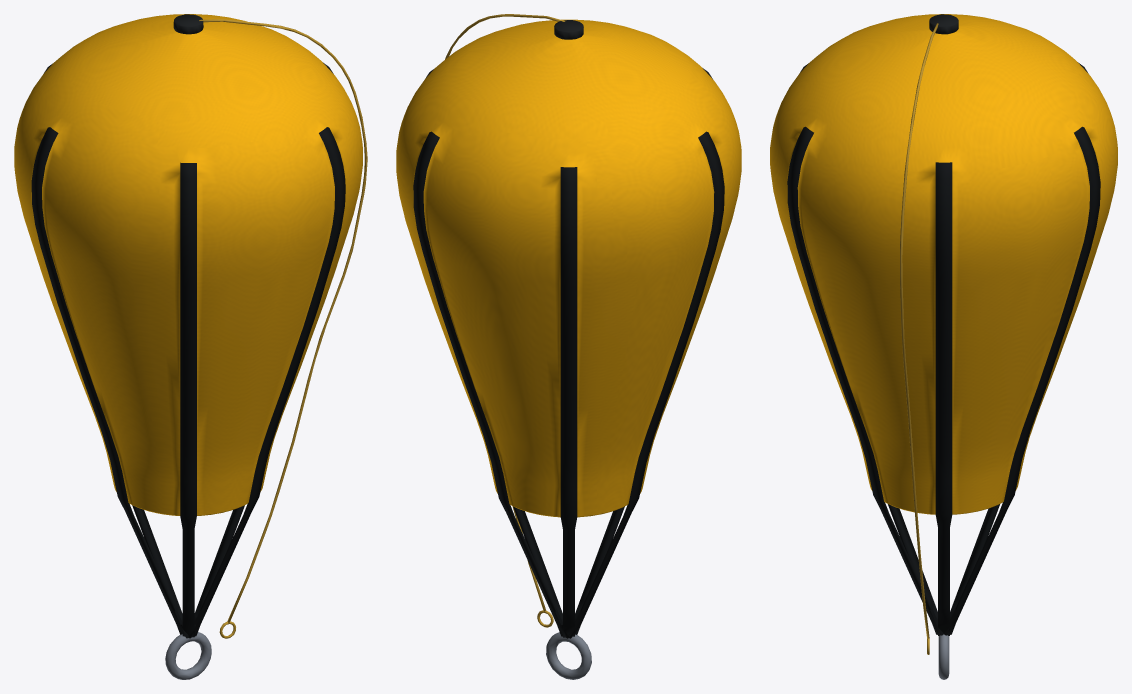
The model's file is NEW691_LiftBag_LOD2.glb.
3 renders of one model, left to right at view 1: azimuth 30°, elevation 25°; view 2: azimuth 150°, elevation 25°; view 3: azimuth 270°, elevation 25°, orthographic.
Visible parts, largest first — view 1: Open_bottom_cloth_with_six_harness_legs, External_dump_pull_line, Single_vertical_metal_load_ring, External_top_dump_valve; view 2: Open_bottom_cloth_with_six_harness_legs, Single_vertical_metal_load_ring, External_dump_pull_line, External_top_dump_valve; view 3: Open_bottom_cloth_with_six_harness_legs, External_dump_pull_line.
Part boxes in pixels (left/top/right/bottom): Open_bottom_cloth_with_six_harness_legs: left=14, top=14, right=362, bottom=638; External_dump_pull_line: left=199, top=19, right=367, bottom=624; Single_vertical_metal_load_ring: left=165, top=632, right=211, bottom=679; External_top_dump_valve: left=173, top=14, right=203, bottom=34; Open_bottom_cloth_with_six_harness_legs: left=396, top=19, right=741, bottom=638; Single_vertical_metal_load_ring: left=546, top=632, right=591, bottom=679; External_dump_pull_line: left=445, top=14, right=565, bottom=612; External_top_dump_valve: left=554, top=20, right=583, bottom=39; Open_bottom_cloth_with_six_harness_legs: left=770, top=14, right=1117, bottom=635; External_dump_pull_line: left=900, top=23, right=938, bottom=638.
Bounding box in the file's own units: 1.03 × 2.1 × 1.
Materials: 5 (5 with a texture image).
